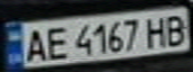1: (90, 20, 109, 55)
4: (72, 20, 93, 56)
6: (106, 18, 127, 53)
7: (121, 16, 145, 52)
A: (21, 25, 51, 63)
B: (160, 11, 190, 47)
E: (42, 24, 72, 61)
H: (142, 14, 172, 48)
